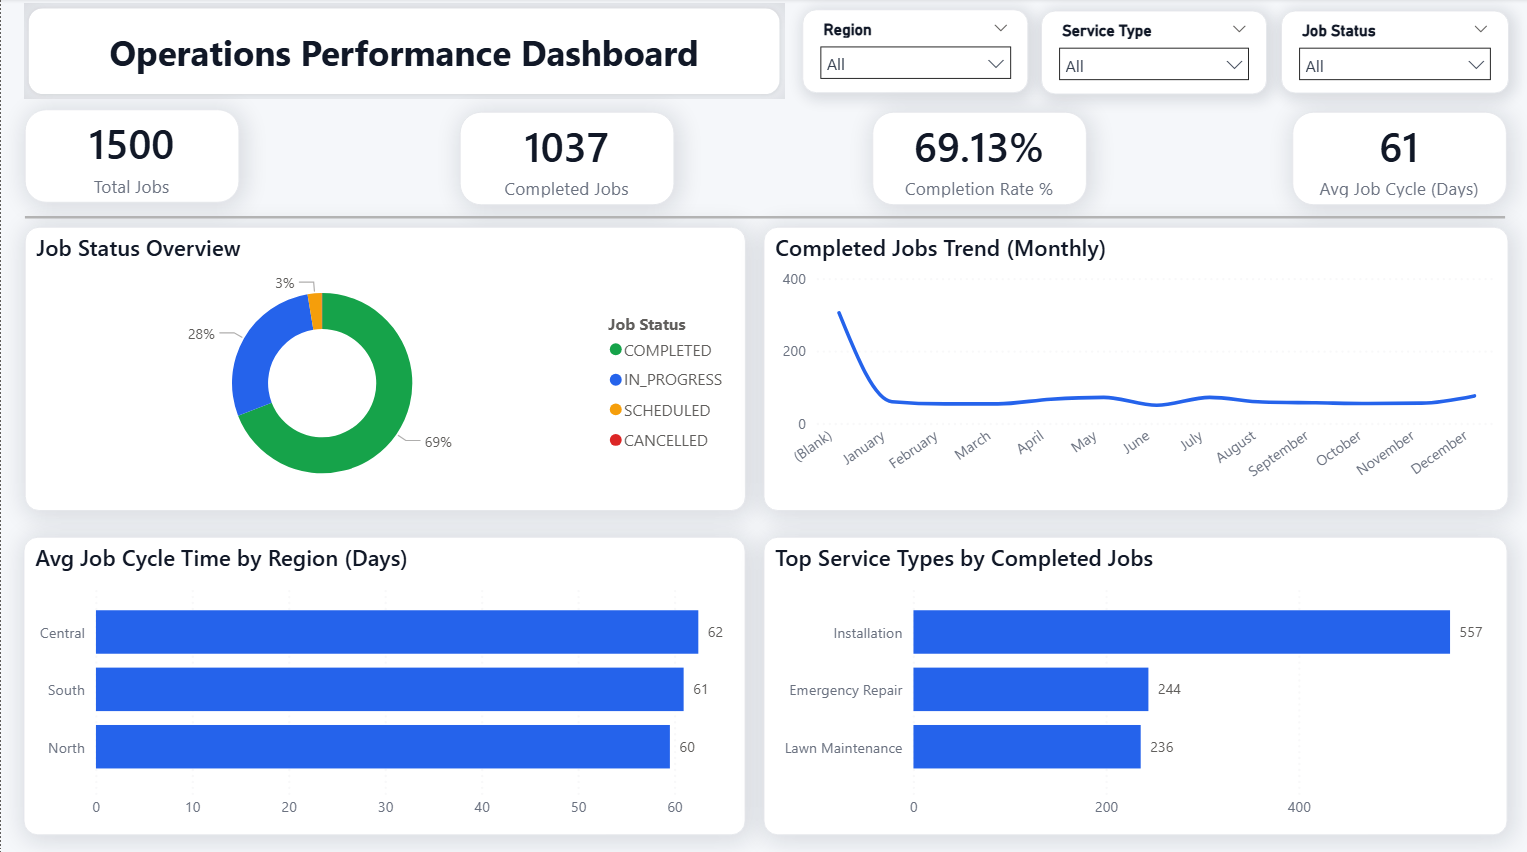

The dashboard page shown, as its layout file describes it:
{"tool":"powerbi","page":{"name":"Operations Performance","canvas":[1280,720],"ordinal":1},"visuals":[{"type":"slicer","fields":{"Values":["dim_region.region_name"]},"box":[672,9.4,189.8,70.2],"z":0},{"type":"card","title":"Total Invoiced Amount","fields":{"Values":["_Meaqsures.Completed Jobs"]},"box":[384.9,95.3,180,78],"z":1000},{"type":"card","title":"Total Invoiced Amount","fields":{"Values":["_Meaqsures.Completion Rate %"]},"box":[730.2,95.3,180,78],"z":2000},{"type":"card","title":"Total Invoiced Amount","fields":{"Values":["_Meaqsures.Total Jobs"]},"box":[19.8,93,180,78],"z":3000},{"type":"card","title":"Total Invoiced Amount","fields":{"Values":["_Meaqsures.Avg Job Cycle Time (Days)"]},"box":[1082.6,95.3,180,78],"z":4000},{"type":"donutChart","title":"Job Status Overview","fields":{"Category":["dim_job_status.status_code"],"Y":["_Meaqsures.Total Jobs"]},"box":[19.8,191.9,604.7,238.4],"z":5000},{"type":"lineChart","title":"Completed Jobs Trend (Monthly)","fields":{"Y":["_Meaqsures.Completed Jobs"],"Category":["jobs.completed_date.Variation.Date Hierarchy.Month"]},"box":[639.5,191.9,624.4,238.4],"z":6000},{"type":"slicer","fields":{"Values":["dim_service_type.service_name"]},"box":[871.9,10.3,189.5,70.1],"z":7000},{"type":"slicer","fields":{"Values":["dim_invoice_status.status_code"]},"box":[1073.1,10.4,190.9,69.6],"z":8000},{"type":"shape","box":[18.9,4.2,638.4,80.7],"z":9000},{"type":"shape","box":[19.8,147.7,1241.9,72.1],"z":10000},{"type":"barChart","title":"Avg Job Cycle Time by Region (Days)","fields":{"Category":["dim_region.region_name"],"Y":["_Meaqsures.Avg Job Cycle Time (Days)"]},"box":[18.6,452.3,605.8,250],"z":11000},{"type":"barChart","title":"Top Service Types by Completed Jobs","fields":{"Category":["dim_service_type.service_name"],"Y":["_Meaqsures.Completed Jobs"]},"box":[640,452,624,250],"z":12000}]}

Visuals, with their boxes in screenshot pixels (x1, y1, x2, y2), scaled from the page's 1280x720 canvas onto the 1527x852 screenshot:
slicer - dim_region.region_name: rect(802, 11, 1028, 94)
"Total Invoiced Amount" card: rect(459, 113, 674, 205)
"Total Invoiced Amount" card: rect(871, 113, 1086, 205)
"Total Invoiced Amount" card: rect(24, 110, 238, 202)
"Total Invoiced Amount" card: rect(1292, 113, 1506, 205)
"Job Status Overview" donutChart: rect(24, 227, 745, 509)
"Completed Jobs Trend (Monthly)" lineChart: rect(763, 227, 1508, 509)
slicer - dim_service_type.service_name: rect(1040, 12, 1266, 95)
slicer - dim_invoice_status.status_code: rect(1280, 12, 1508, 95)
shape: rect(23, 5, 784, 100)
shape: rect(24, 175, 1505, 260)
"Avg Job Cycle Time by Region (Days)" barChart: rect(22, 535, 745, 831)
"Top Service Types by Completed Jobs" barChart: rect(764, 535, 1508, 831)
